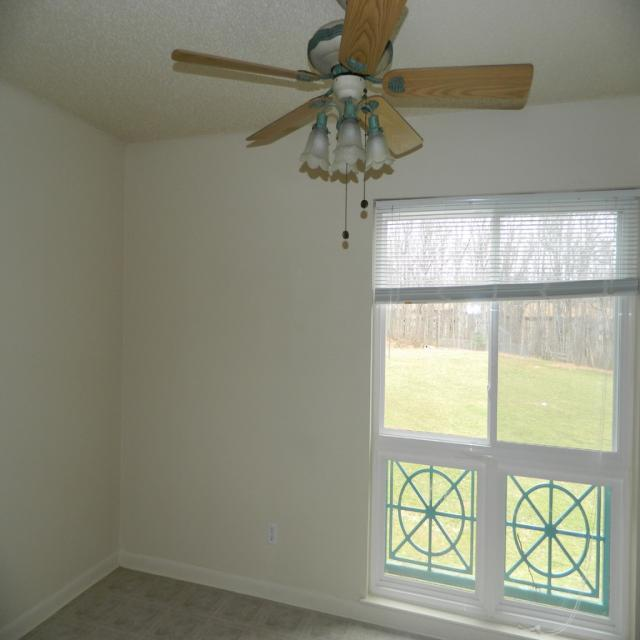bulb_off: (341, 120, 358, 144), (312, 137, 330, 157), (372, 140, 386, 158)
fan_off: (169, 2, 534, 160)
